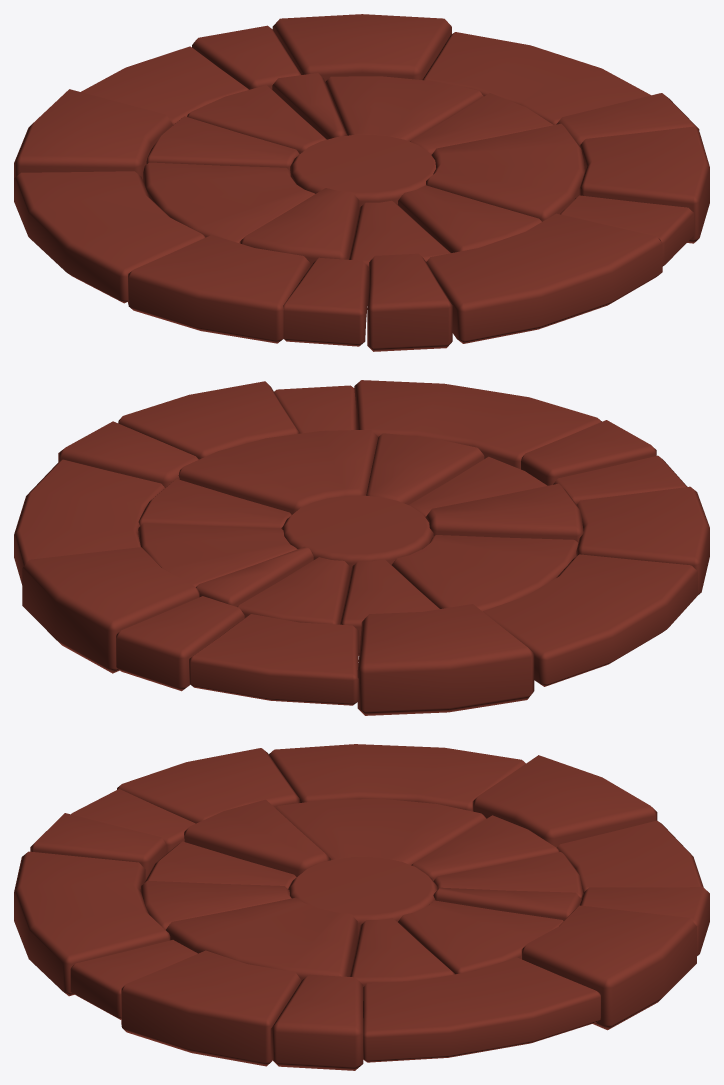
File: obstacle_8_001.fbx
3 views of the same model, one above another, from view 1: azimuth 30°, elevation 25°; view 2: azimuth 150°, elevation 25°; view 3: azimuth 270°, elevation 25° (orthographic).
Parts seen in each view (by area): view 1: obstacle_8_001; view 2: obstacle_8_001; view 3: obstacle_8_001.
Boxes of the visible parts, x1,y1,x2,y2 form: obstacle_8_001: (14,14,709,351); obstacle_8_001: (14,380,709,715); obstacle_8_001: (14,744,709,1070).
Size of the model in its own units: 919 by 922 by 77.25.
